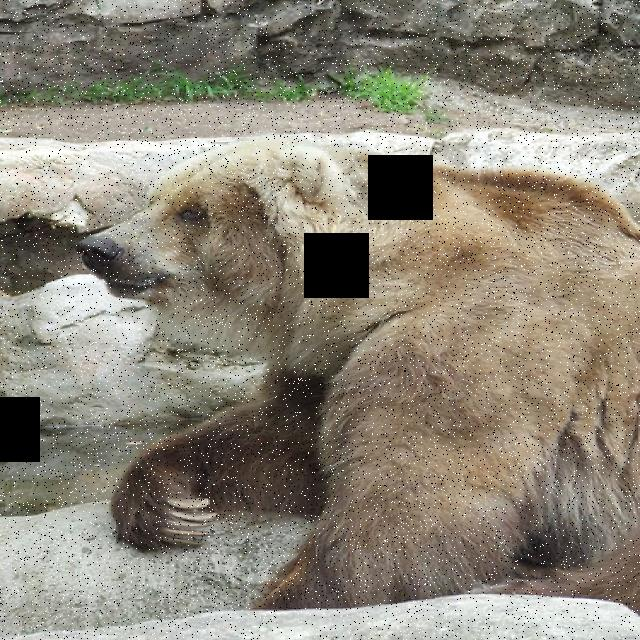Bear: (68, 136, 640, 614)
